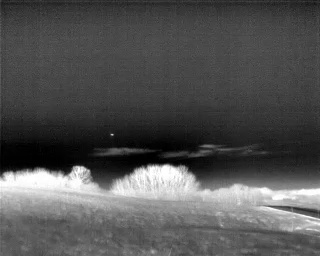AIRPLANE: (109, 131, 116, 138)
